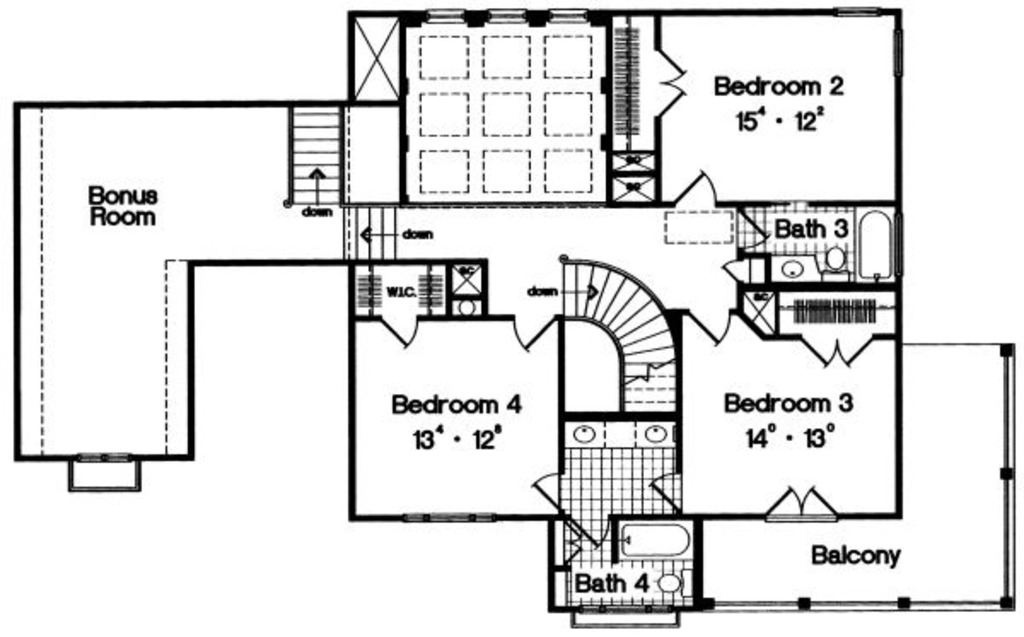door: (799, 328, 871, 373), (765, 487, 842, 522), (669, 157, 722, 207), (685, 302, 734, 356), (655, 42, 688, 118), (511, 312, 554, 360), (379, 308, 421, 354), (564, 511, 608, 547), (652, 469, 688, 511), (531, 464, 560, 511)
large_sink: (656, 564, 695, 601), (820, 236, 849, 284)
small_sink: (561, 422, 676, 449), (774, 254, 819, 279)
stairs: (551, 246, 697, 410), (288, 106, 342, 210), (337, 202, 425, 262)
tub: (611, 514, 699, 561), (853, 199, 889, 281)
window: (423, 1, 586, 28), (78, 447, 134, 468)
